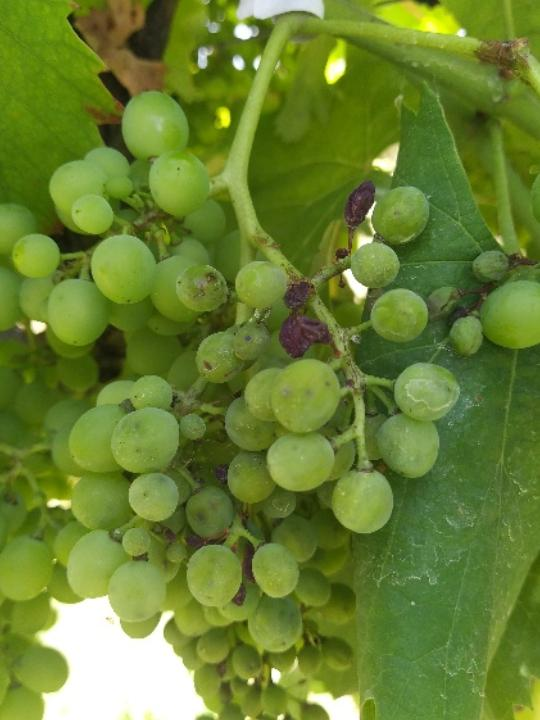grape: (12, 91, 465, 651)
